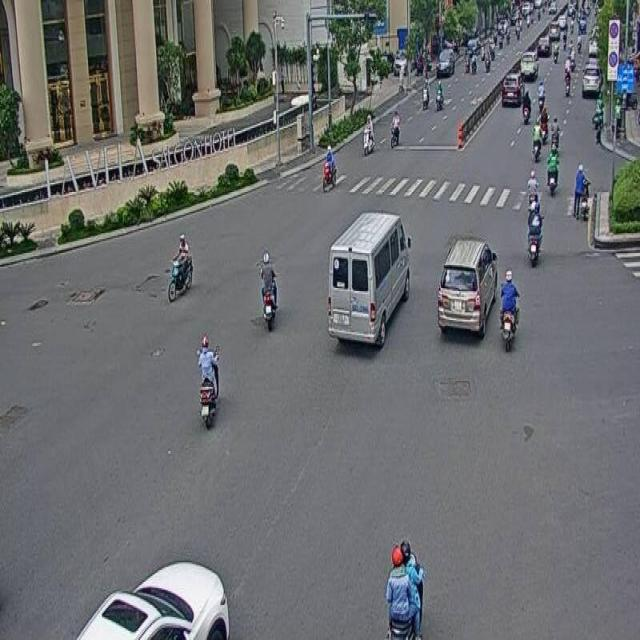car: (437, 236, 498, 340)
motorcycle: (386, 538, 425, 640), (197, 334, 221, 426), (497, 267, 521, 352), (168, 232, 194, 302), (259, 248, 278, 326), (322, 142, 338, 195)
truck: (326, 215, 411, 358)
